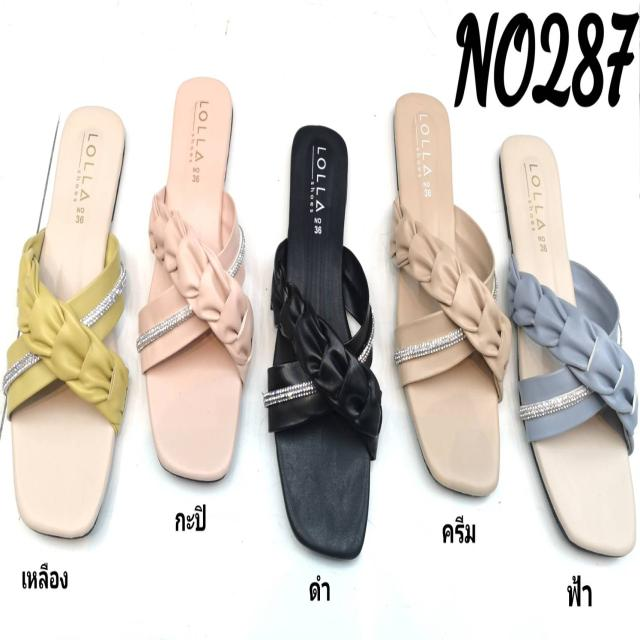black: (271, 127, 377, 562)
blue: (500, 119, 637, 560)
cream: (392, 89, 499, 494)
kapi: (141, 76, 242, 484)
yellow: (12, 101, 123, 542)
